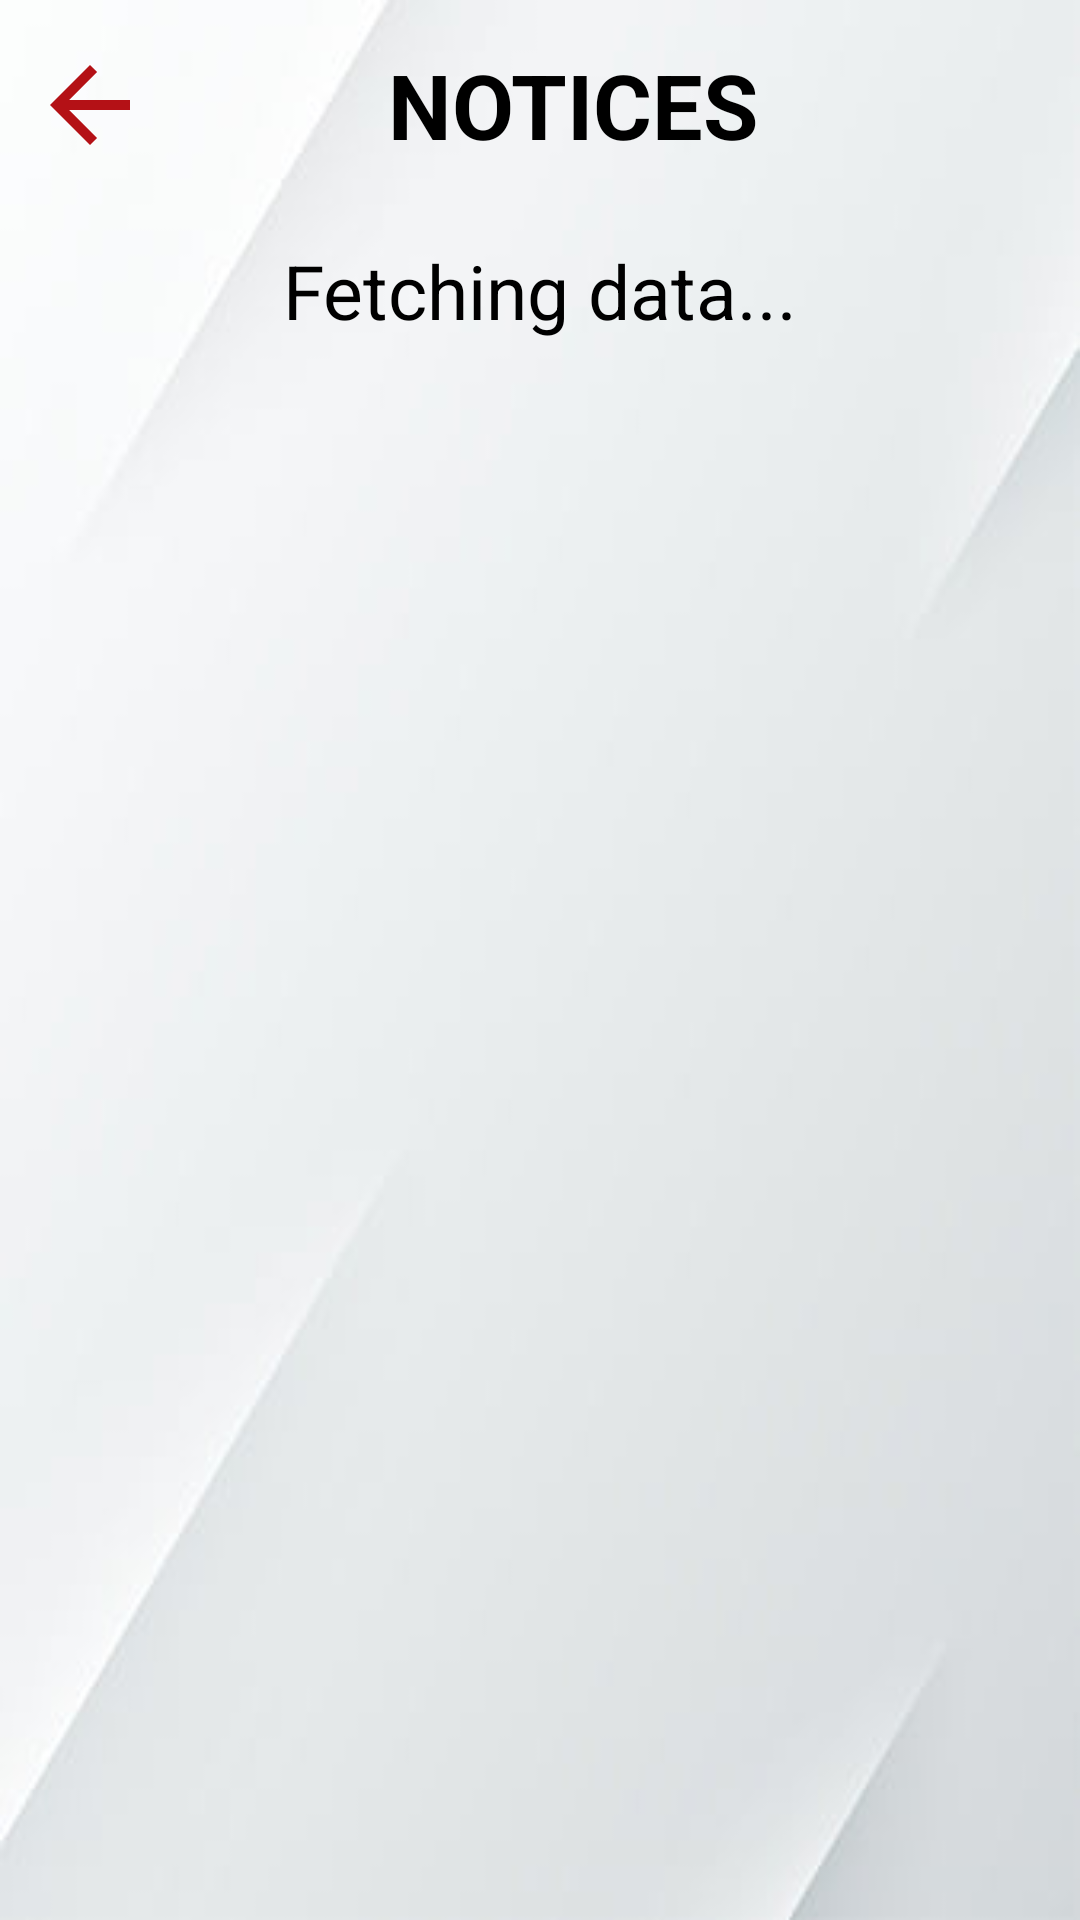

Named icons in this screenshot (1080px×1920px) and their centers, (x,y):
arrow: (90,105)
